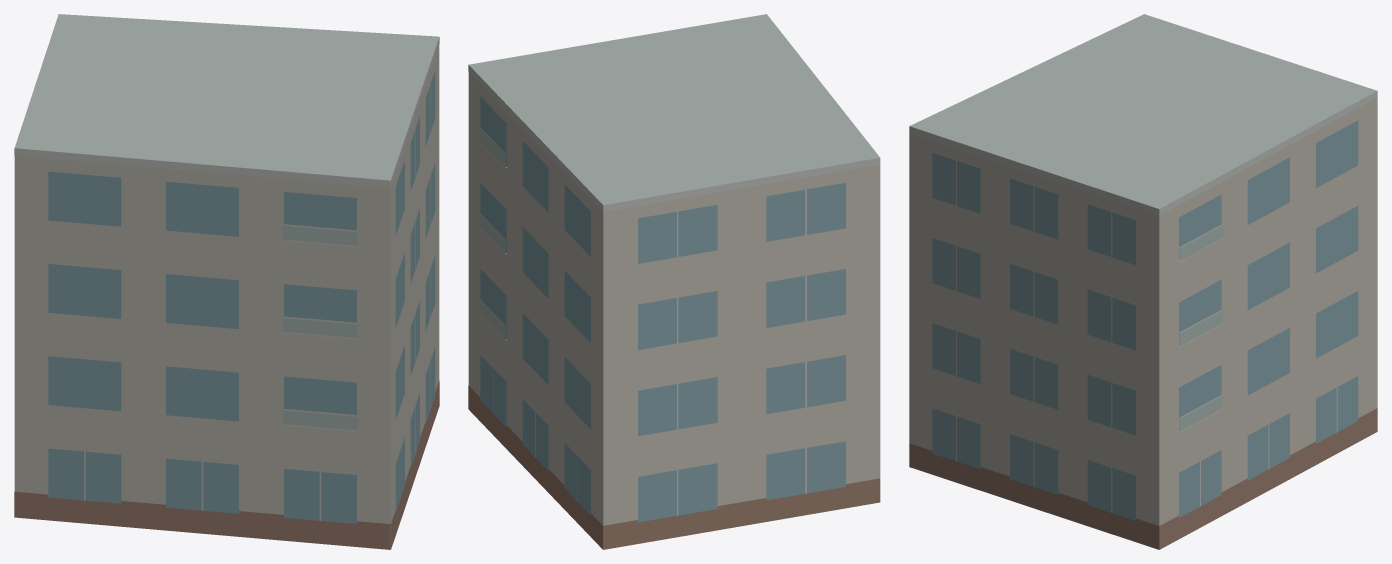
File: survey-upis-32920075.glb
3 renders of one model, left to right at view 1: azimuth 30°, elevation 25°; view 2: azimuth 150°, elevation 25°; view 3: azimuth 270°, elevation 25°, orthographic. The views are drawn at different scales.
Visible parts, largest first — view 1: survey-upis-32920075.tmp; view 2: survey-upis-32920075.tmp; view 3: survey-upis-32920075.tmp.
Boxes of the visible parts, x1,y1,x2,y2 form: survey-upis-32920075.tmp: (14,14,439,549); survey-upis-32920075.tmp: (468,14,880,549); survey-upis-32920075.tmp: (909,14,1377,549).
Bounding box in the file's own units: 14.98 × 12.2 × 15.2.
